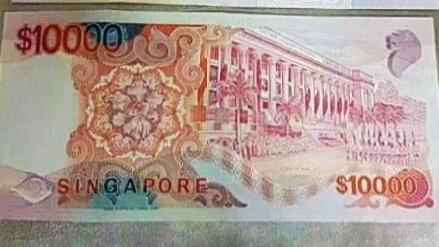10000SingaporeDollar: (6, 13, 434, 219)
